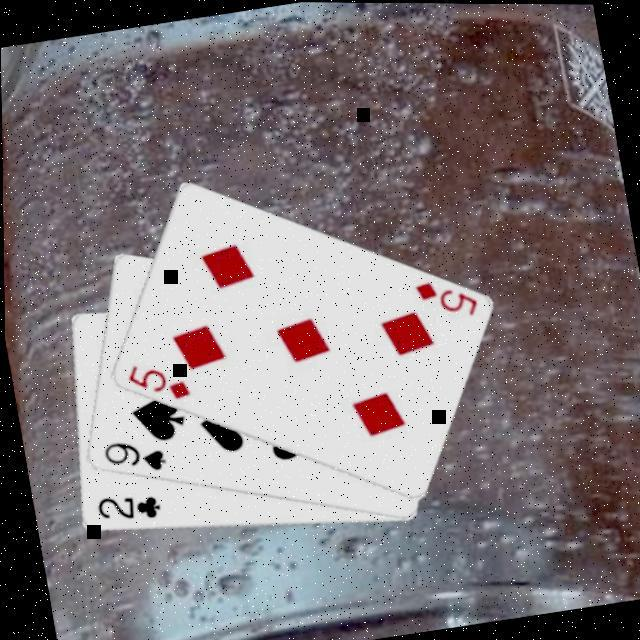2C: (91, 487, 164, 531)
5D: (121, 354, 194, 410), (410, 271, 483, 327)
9S: (98, 432, 171, 482)
